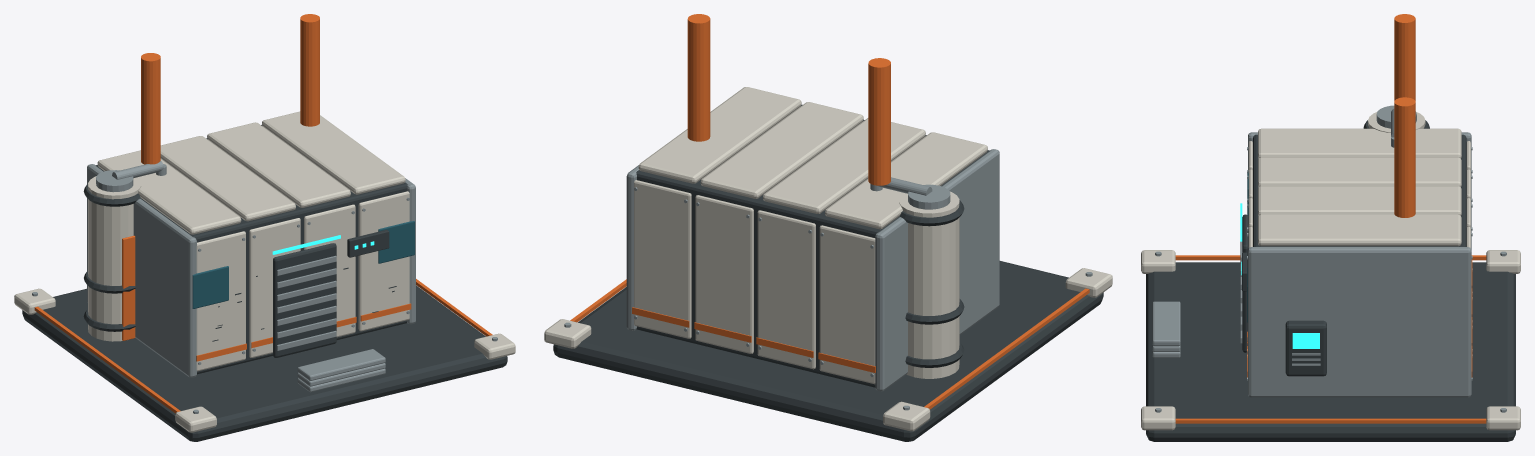
File: SM_SurveyEquipmentPlant_Body.001.fbx
3 renders of one model, left to right at view 1: azimuth 30°, elevation 25°; view 2: azimuth 150°, elevation 25°; view 3: azimuth 270°, elevation 25°, orthographic. The views are drawn at different scales.
Visible parts, largest first — view 1: SM_SurveyEquipmentPlant_Body.001; view 2: SM_SurveyEquipmentPlant_Body.001; view 3: SM_SurveyEquipmentPlant_Body.001.
Boxes of the visible parts, x1=… form: SM_SurveyEquipmentPlant_Body.001: x1=14, y1=14, x2=515, y2=441; SM_SurveyEquipmentPlant_Body.001: x1=544, y1=14, x2=1112, y2=441; SM_SurveyEquipmentPlant_Body.001: x1=1141, y1=14, x2=1520, y2=441.
Size of the model in its own units: 492 by 462 by 405.
